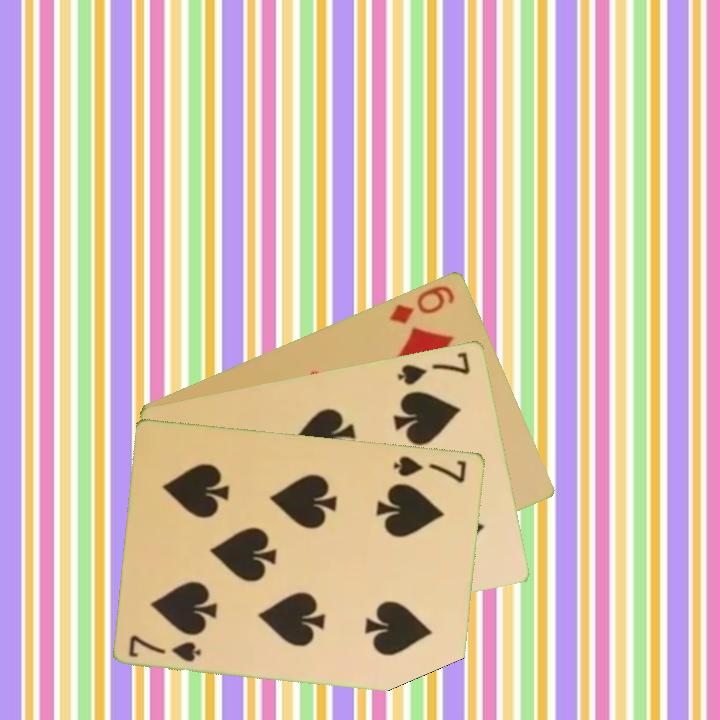6d: (386, 281, 458, 326)
7s: (394, 348, 474, 388), (126, 631, 205, 665), (390, 452, 470, 485)
